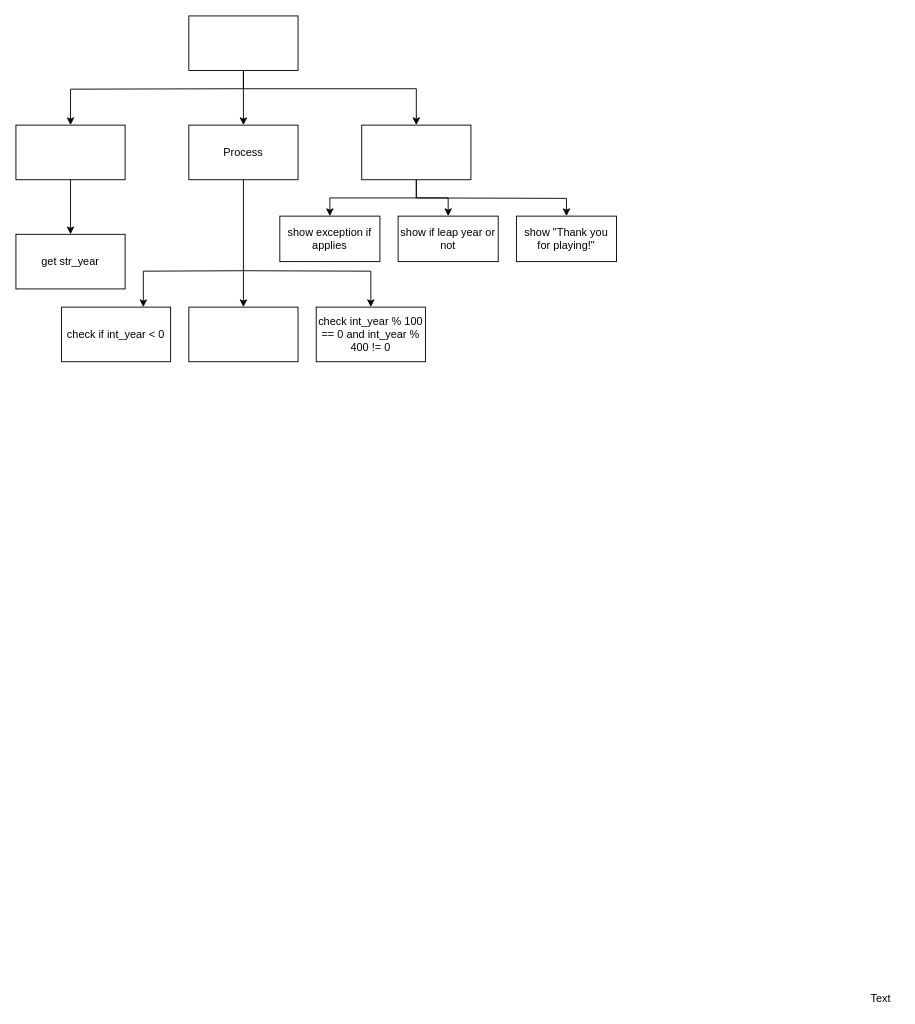
This 915x1024 diagram has some shape labels left out. Here are the shapes that lost their labels. From the top down, the centre of each, then its label:
(243,43): Leap year
(70,152): Input
(416,152): Output
(243,334): check If int_year % 4 == 0 or int_year % 400 == 0
